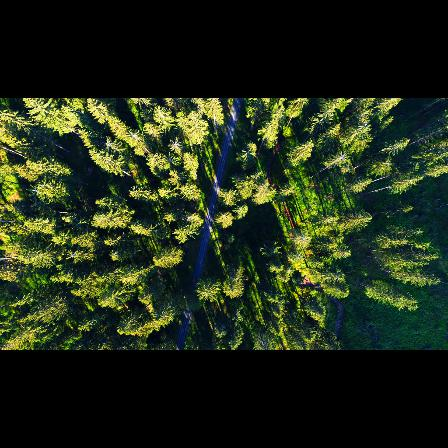Sick: (123, 126, 143, 142), (168, 134, 182, 153)
